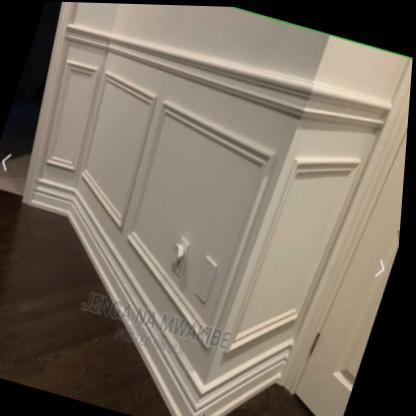Futec frame: (32, 22, 319, 416)
